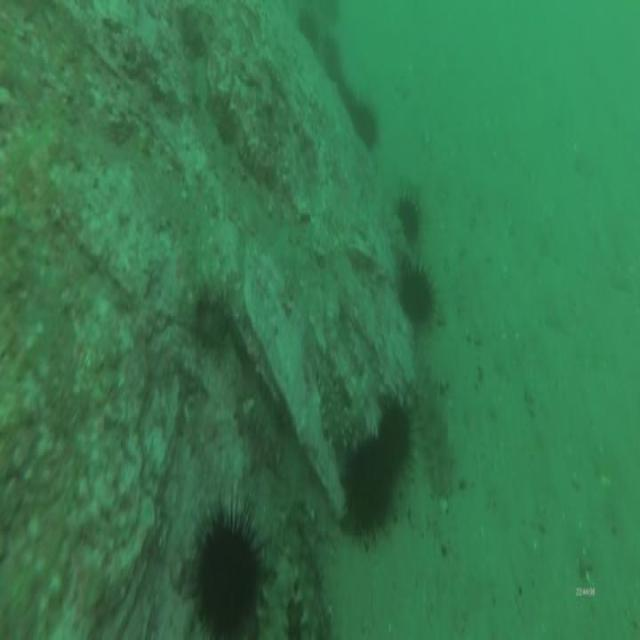echinus: (178, 498, 266, 640), (342, 430, 398, 545), (375, 392, 424, 488), (397, 254, 439, 332), (390, 182, 424, 250), (349, 92, 383, 155), (323, 35, 349, 95), (295, 9, 325, 54)
holothurian: (311, 346, 362, 463), (286, 516, 334, 640), (414, 393, 460, 509), (264, 543, 296, 640)
